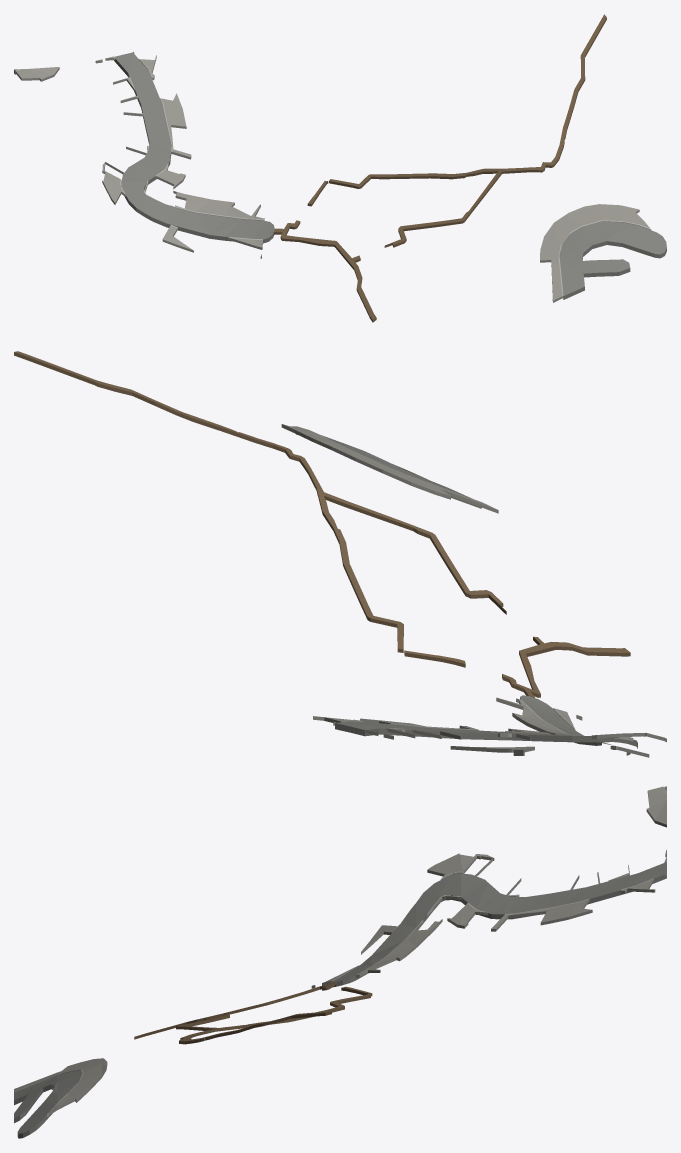
3 renders of one model, top to bottom at view 1: azimuth 30°, elevation 25°; view 2: azimuth 150°, elevation 25°; view 3: azimuth 270°, elevation 25°, orthographic. The views are drawn at different scales.
Bounding box in the file's own units: 147 × 53.69 × 146.
